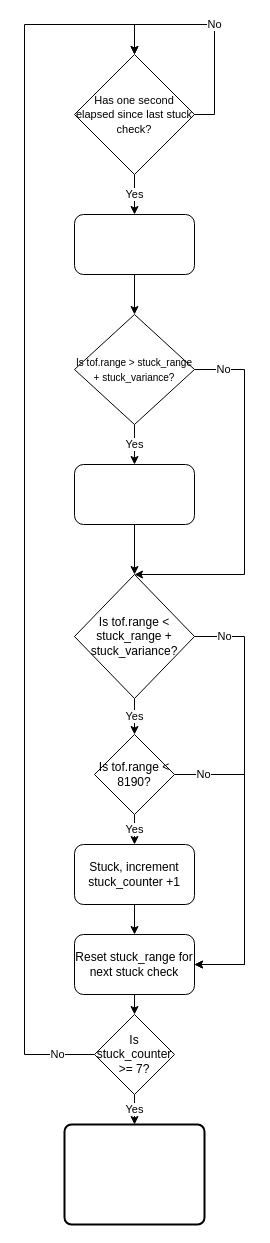
This 270x1243 diagram has some shape labels left out. Each missing label, with the centre of its shape:
"Not stuck, reset stuck counters" belongs at (134,494).
"Reset stuck_check_last" belongs at (134,244).
"Set: stuck_flag = True, stuck_timer = Now Increment stuck_sequential_counter" belongs at (134,1174).
